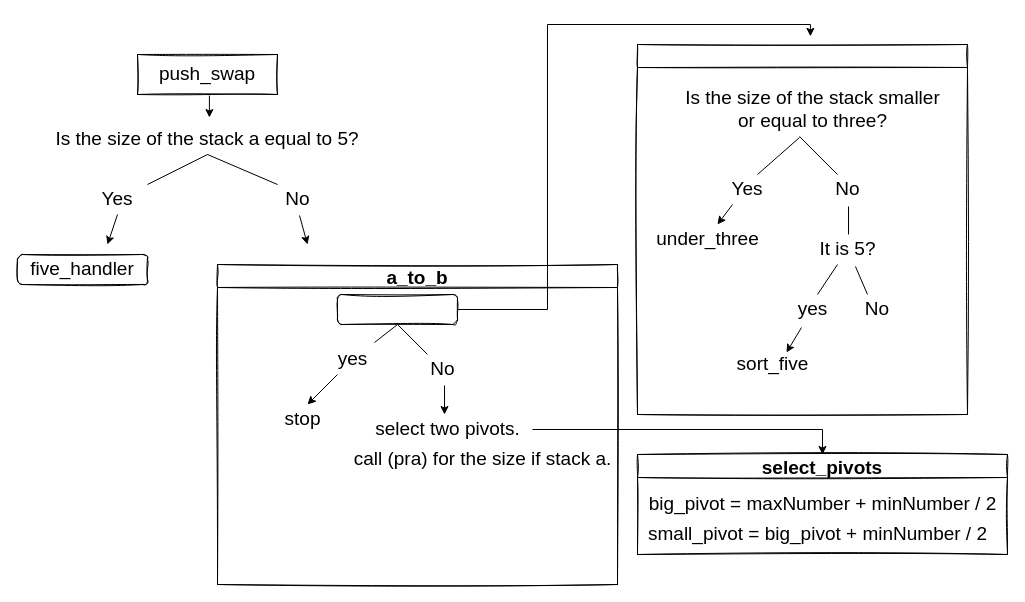
Image size: 1025x602. Some labels were removed from this diagram. The box of each missing label's shape, as (x1, y1, x2, y2) in pixels:
Exceptions: (636, 44, 968, 414)
exceptions?: (336, 294, 458, 324)
